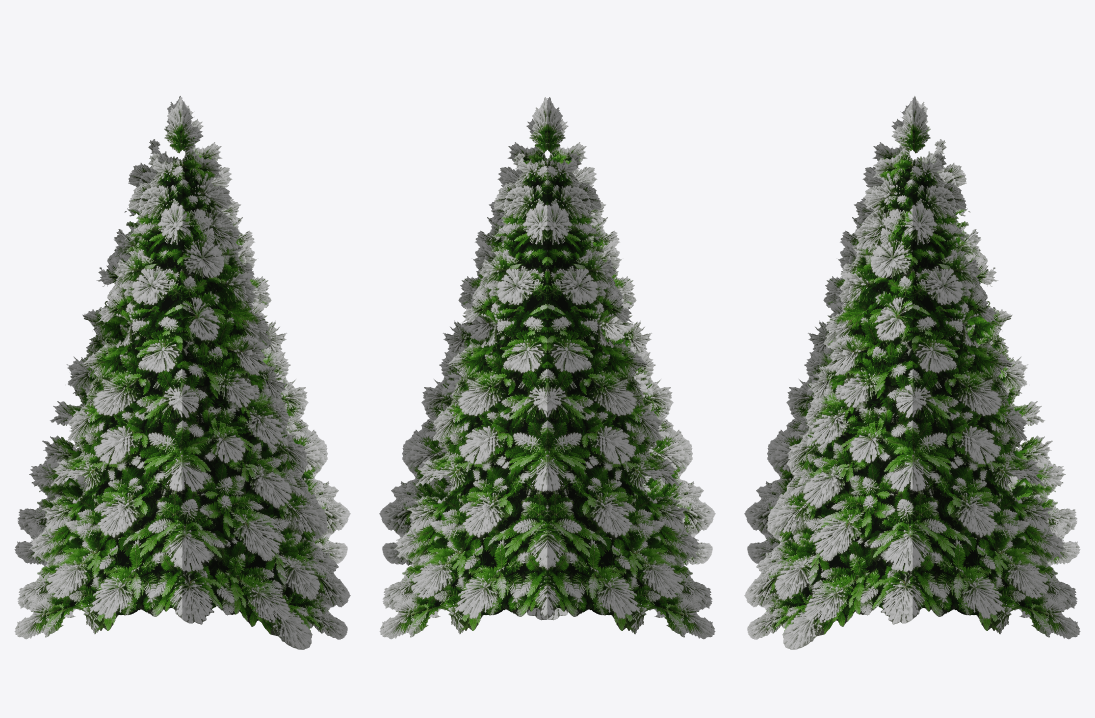
File: 08-verde-nevada-2-10m.glb
3 renders of one model, left to right at view 1: azimuth 30°, elevation 25°; view 2: azimuth 150°, elevation 25°; view 3: azimuth 270°, elevation 25°, orthographic.
Parts seen in each view (by area): view 1: 08-verde-nevada-2,1m; view 2: 08-verde-nevada-2,1m; view 3: 08-verde-nevada-2,1m.
Boxes of the visible parts, x1,y1,x2,y2 form: 08-verde-nevada-2,1m: (14,96,350,649); 08-verde-nevada-2,1m: (379,97,715,639); 08-verde-nevada-2,1m: (744,96,1080,649).
Bounding box in the file's own units: 1.41 × 2.1 × 1.22.
Materials: 1 (1 with a texture image).
